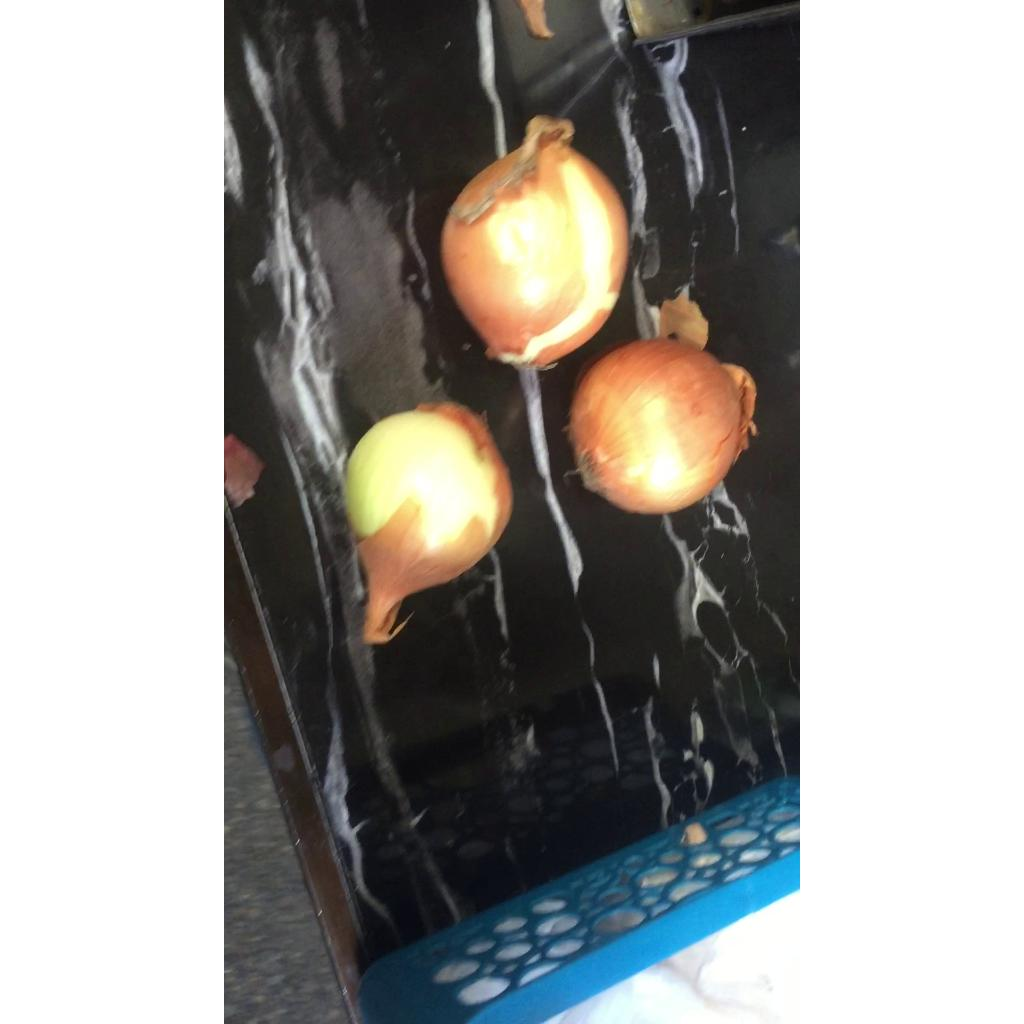Onion: (441, 115, 628, 368), (344, 405, 511, 644), (569, 338, 756, 514)
